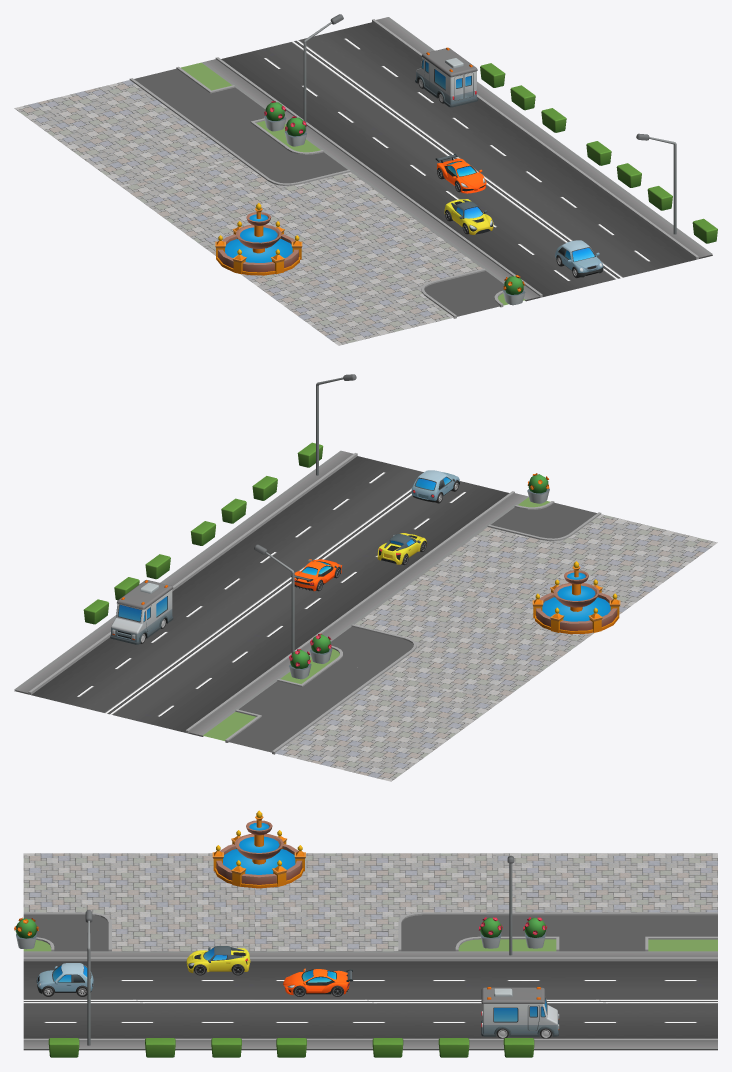
The model's file is south-central-center.gltf.
The picture shows the model from 3 angles, top to bottom: view 1: azimuth 30°, elevation 25°; view 2: azimuth 150°, elevation 25°; view 3: azimuth 270°, elevation 25°; orthographic projection. The views are drawn at different scales.
Parts seen in each view (by area): view 1: Set_B_Tiles_04.029, Set_B_Tiles_06.004, road_001.284, road_001.283, Set_B_Tiles_06.007, road_001.285, Fountain_03.003, Van.003, Car_06.001, Car_16.001, Car_13.001, Bush_07.026 (+3 smaller); view 2: Set_B_Tiles_04.029, road_001.285, Set_B_Tiles_06.007, road_001.283, Set_B_Tiles_06.004, road_001.284, Fountain_03.003, Van.003, Car_06.001, Car_16.001, Car_13.001; view 3: Set_B_Tiles_04.029, Set_B_Tiles_06.007, Set_B_Tiles_06.004, road_001.284, road_001.285, road_001.283, Fountain_03.003, Van.003, Car_13.001, Car_16.001, Car_06.001, Bush_10.198 (+11 smaller).
Part boxes in pixels (x1=…): Set_B_Tiles_04.029: x1=14, y1=62, x2=308, y2=187; Set_B_Tiles_06.004: x1=241, y1=221, x2=525, y2=345; road_001.284: x1=310, y1=96, x2=604, y2=220; road_001.283: x1=418, y1=175, x2=712, y2=301; Set_B_Tiles_06.007: x1=122, y1=141, x2=417, y2=255; road_001.285: x1=201, y1=17, x2=496, y2=141; Fountain_03.003: x1=215, y1=203, x2=302, y2=275; Van.003: x1=415, y1=47, x2=477, y2=107; Car_06.001: x1=555, y1=240, x2=603, y2=277; Car_16.001: x1=444, y1=199, x2=493, y2=234; Car_13.001: x1=437, y1=158, x2=486, y2=193; Bush_07.026: x1=503, y1=275, x2=525, y2=305; Set_B_Tiles_04.029: x1=203, y1=656, x2=499, y2=781; road_001.285: x1=14, y1=615, x2=310, y2=736; Set_B_Tiles_06.007: x1=330, y1=576, x2=593, y2=701; road_001.283: x1=232, y1=450, x2=528, y2=576; Set_B_Tiles_06.004: x1=421, y1=497, x2=717, y2=614; road_001.284: x1=160, y1=530, x2=419, y2=655; Fountain_03.003: x1=532, y1=561, x2=620, y2=634; Van.003: x1=110, y1=580, x2=173, y2=644; Car_06.001: x1=411, y1=470, x2=459, y2=502; Car_16.001: x1=377, y1=533, x2=426, y2=564; Car_13.001: x1=294, y1=559, x2=341, y2=591; Set_B_Tiles_04.029: x1=486, y1=853, x2=717, y2=951; Set_B_Tiles_06.007: x1=255, y1=853, x2=486, y2=951; Set_B_Tiles_06.004: x1=23, y1=853, x2=254, y2=951; road_001.284: x1=255, y1=951, x2=486, y2=1050; road_001.285: x1=486, y1=951, x2=717, y2=1050; road_001.283: x1=23, y1=951, x2=254, y2=1050; Fountain_03.003: x1=212, y1=810, x2=305, y2=888; Van.003: x1=481, y1=987, x2=559, y2=1036; Car_13.001: x1=283, y1=968, x2=349, y2=995; Car_16.001: x1=186, y1=946, x2=250, y2=972; Car_06.001: x1=36, y1=963, x2=93, y2=993; Bush_10.198: x1=372, y1=1038, x2=403, y2=1057.
Bounding box in the file's own units: 31.88 × 8.4 × 45.62.
12 materials, 10 textured.
